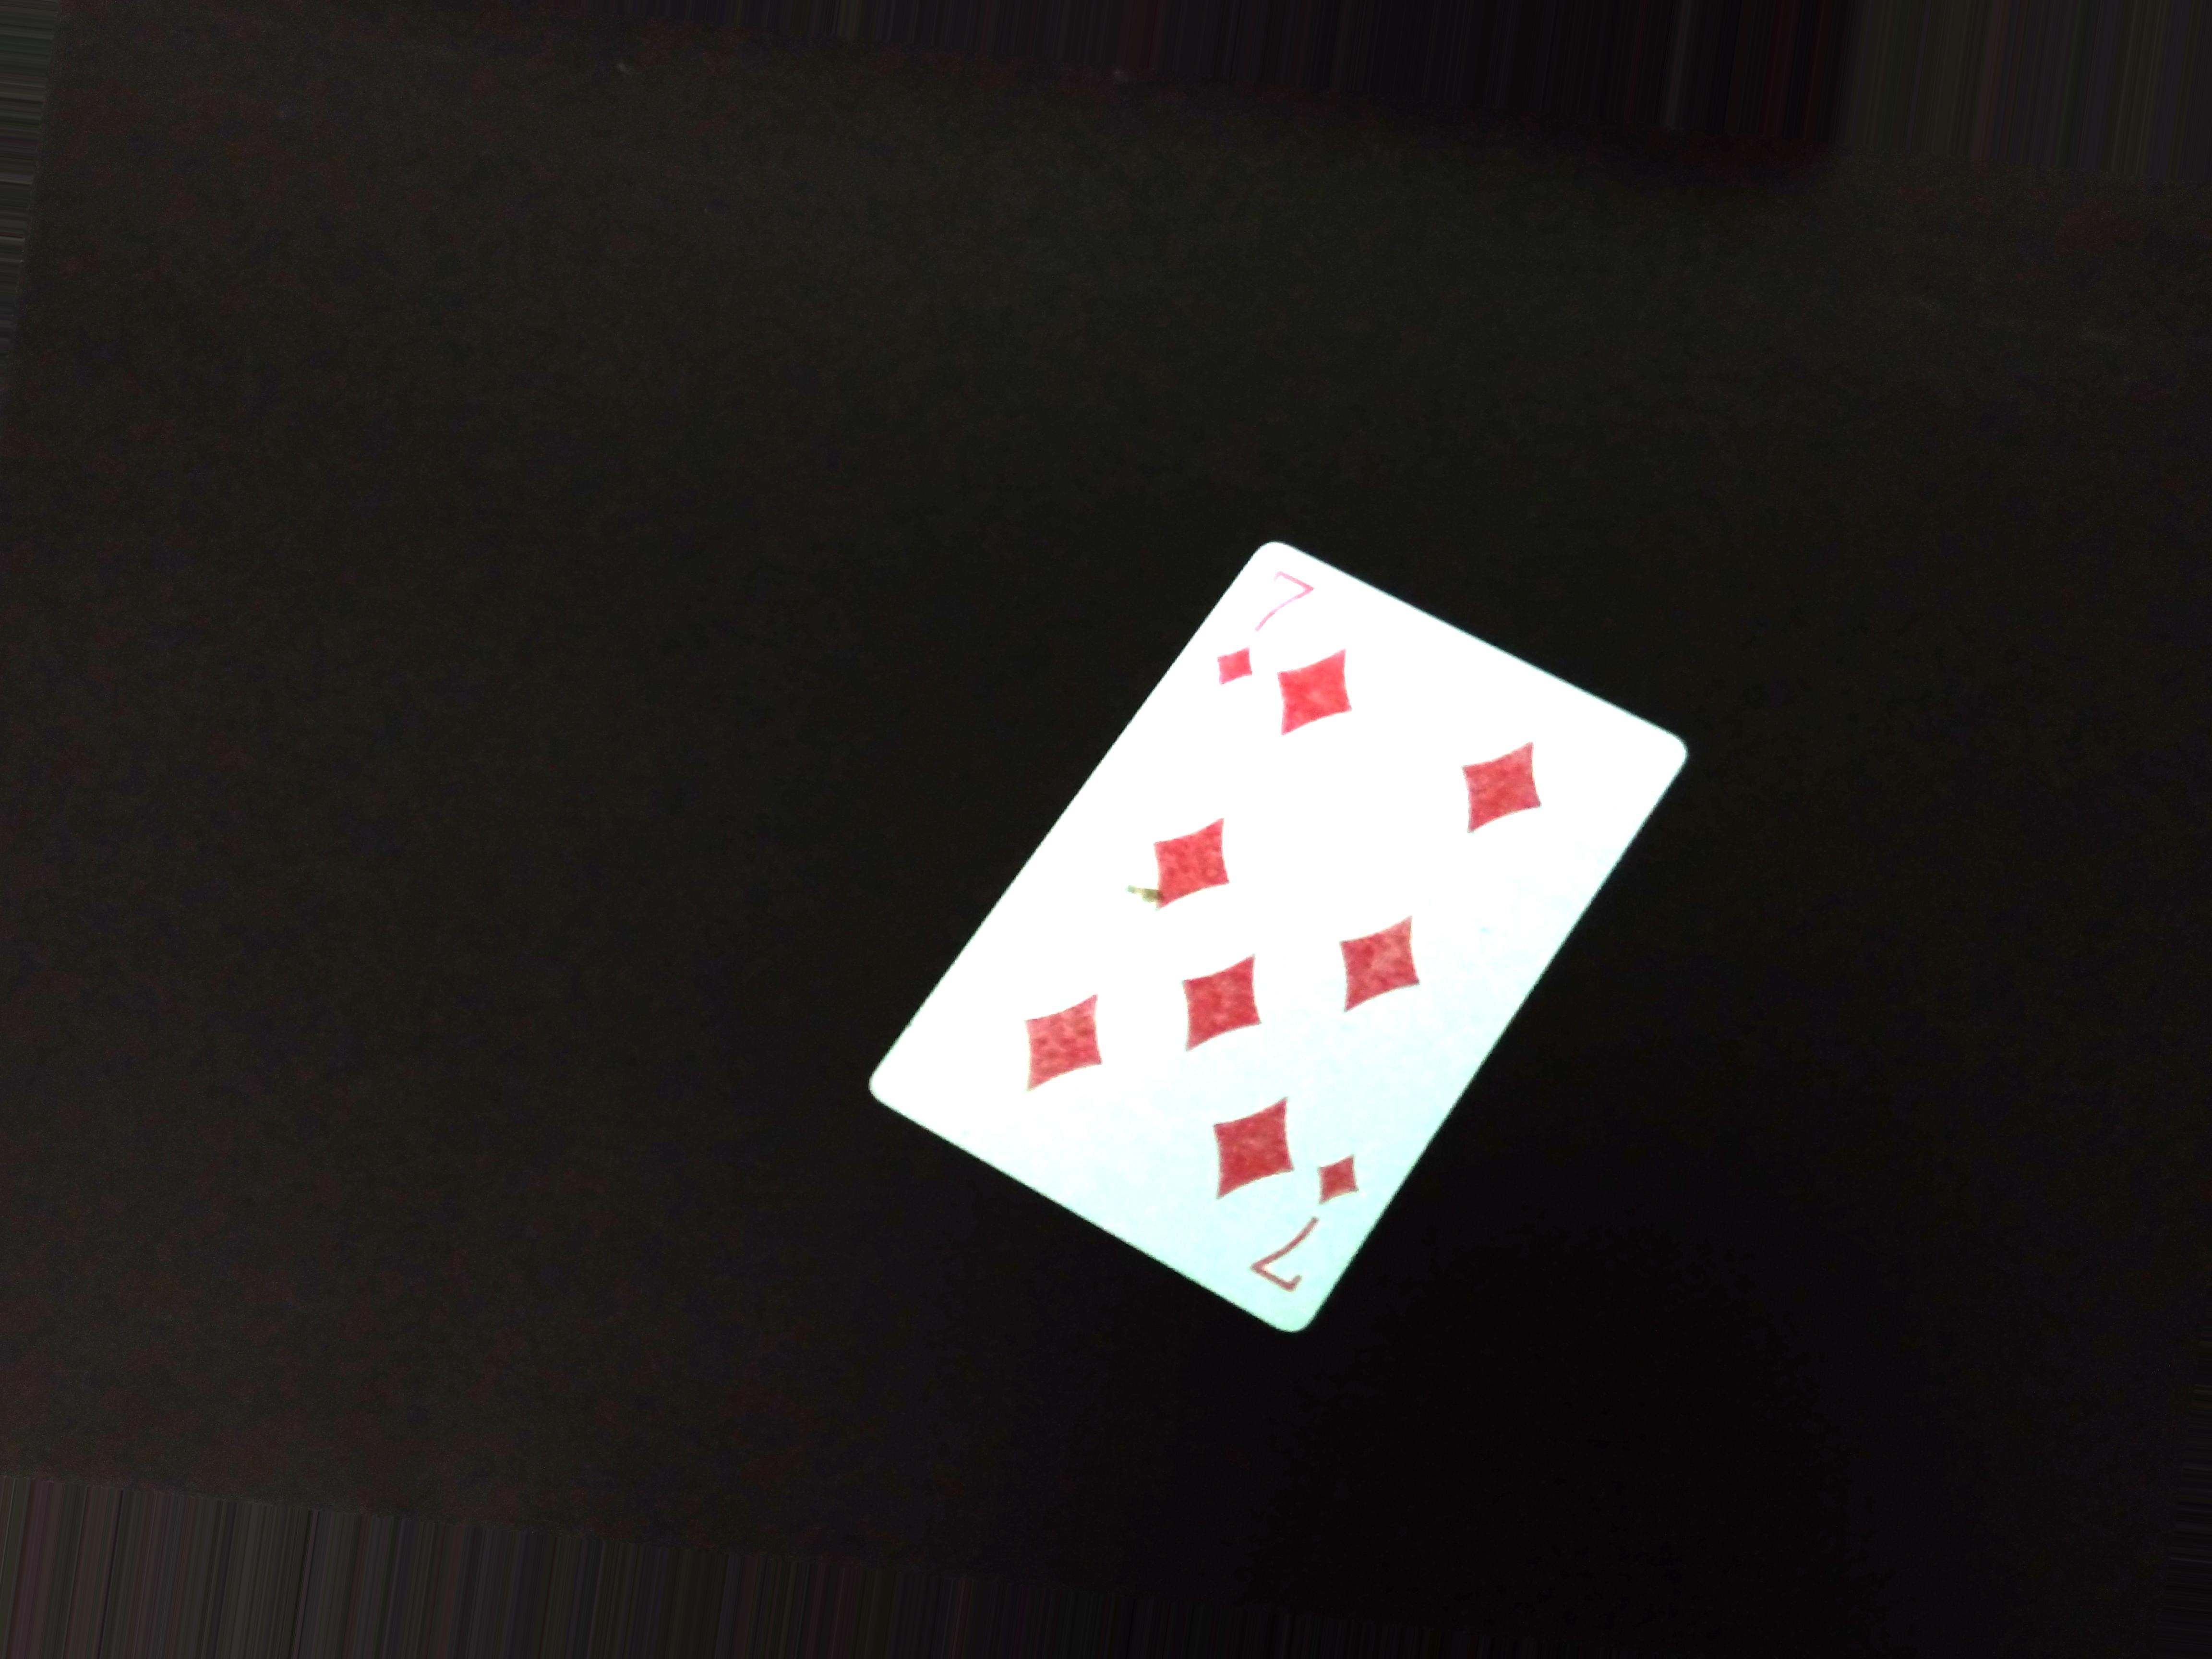7D: (1202, 542, 1320, 720)
